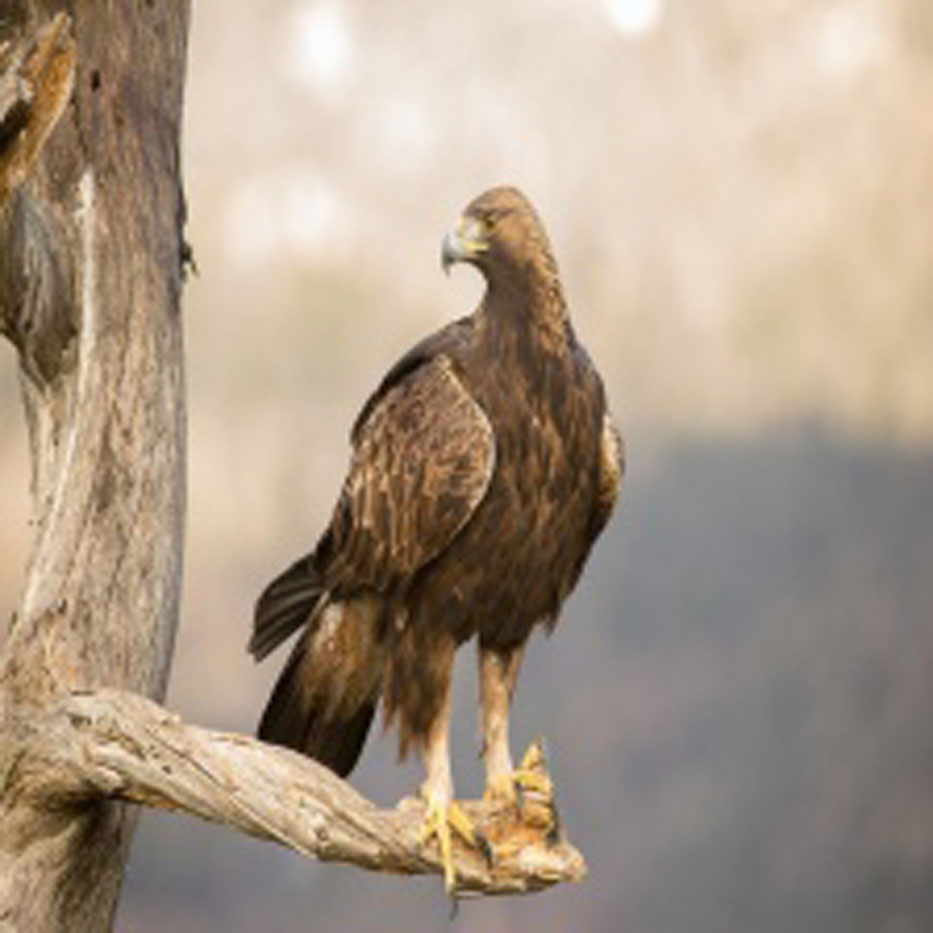Pengoyak Daging: (436, 227, 476, 279)
